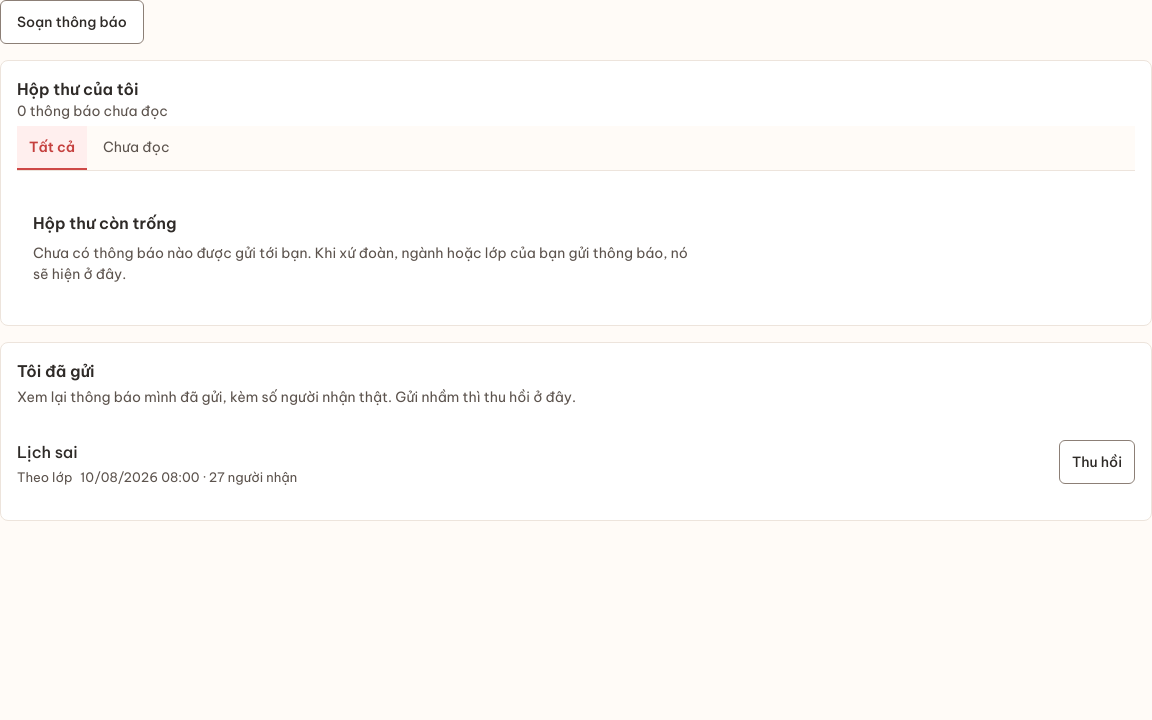
Test: D-166 · thu hồi thông báo đã gửi › bấm Thu hồi mở hộp thoại và CHƯA thu hồi gì
Click the button "Thu hồi": (1097, 462) x1=1059 y1=440 x2=1135 y2=484
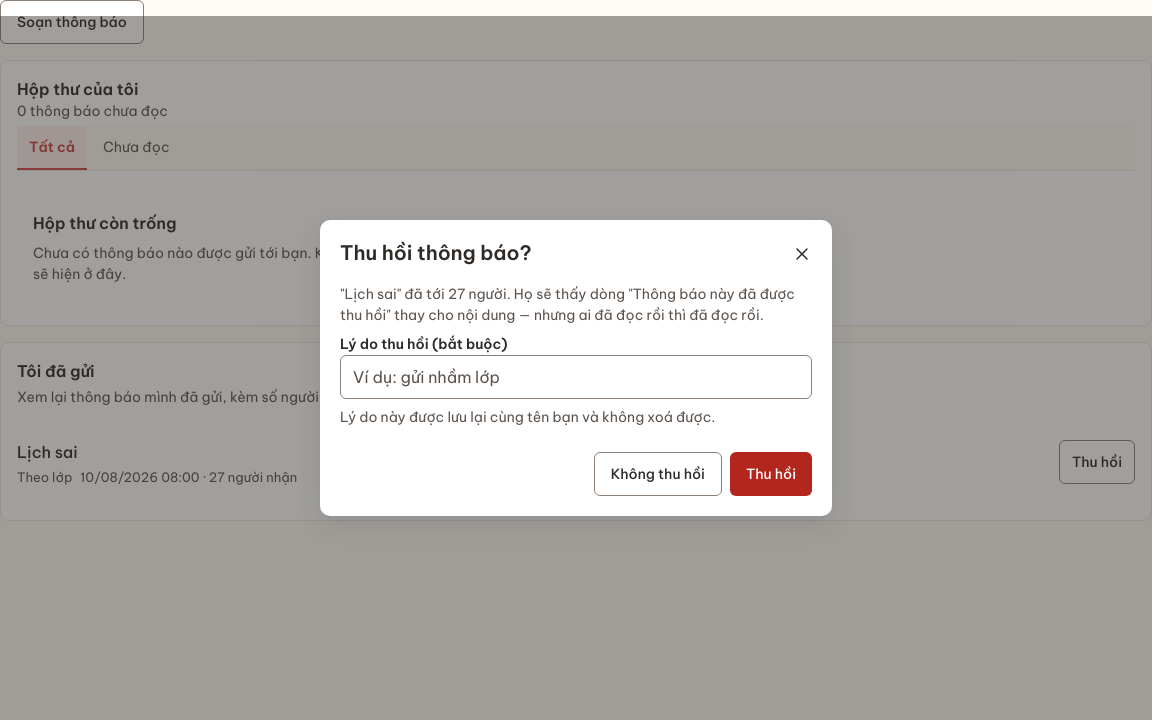
expect the dialog shows "Lịch sai": met, box x1=340 y1=285 x2=795 y2=324
expect the dialog shows "27": met, box x1=340 y1=285 x2=795 y2=324
expect the dialog shows "ai đã đọc rồi thì đã đọc rồi": met, box x1=340 y1=285 x2=795 y2=324
